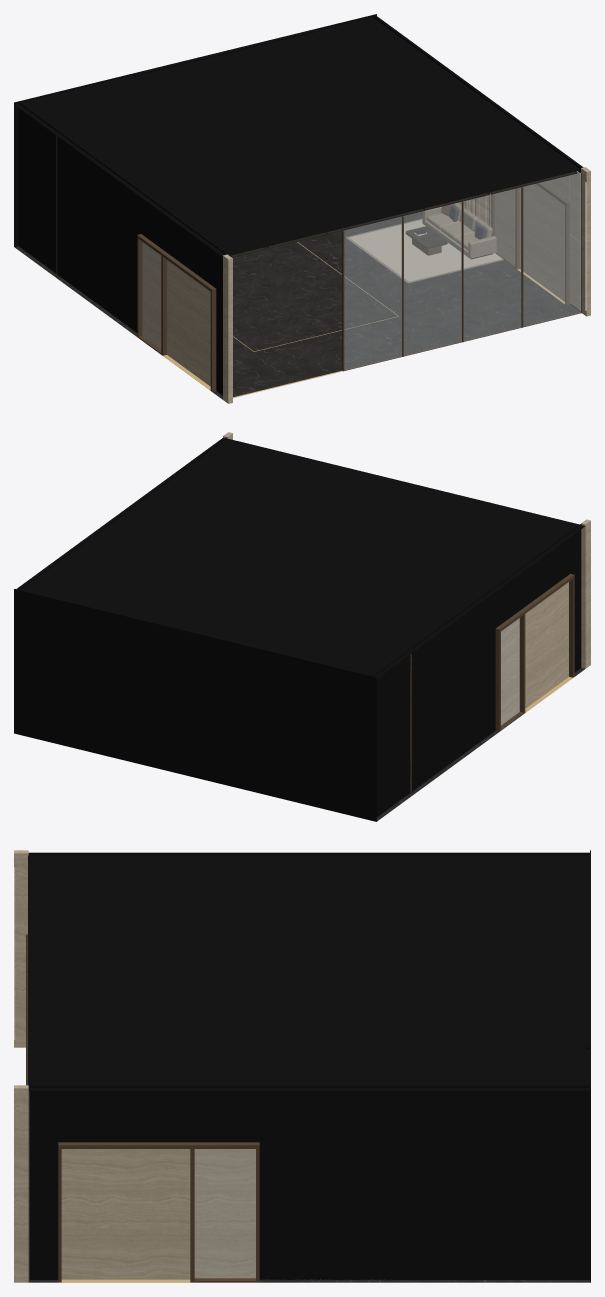
File: room_signature.glb
The picture shows the model from 3 angles, top to bottom: view 1: azimuth 30°, elevation 25°; view 2: azimuth 150°, elevation 25°; view 3: azimuth 270°, elevation 25°; orthographic projection. The views are drawn at different scales.
Visible parts, largest first — view 1: MTG_Reveals, MTG_Glass_Vitrine, MTG_Floor, MTG_PortalFill_L, MTG_PortalFill_R, MTG_Rug, MTG_Walls, MTG_Sofa, MTG_Glass_PortalL, MTG_Pier_-1, MTG_Pier_1, MTG_Ceiling (+5 smaller); view 2: MTG_Reveals, MTG_PortalFill_L, MTG_Glass_PortalL, MTG_Pier_-1, MTG_PortalL_Mull, MTG_Floor, MTG_PortalL_JambA, MTG_PortalL_Head, MTG_PortalL_JambB; view 3: MTG_Reveals, MTG_PortalFill_R, MTG_Glass_PortalR, MTG_Pier_1, MTG_Pier_-1, MTG_PortalR_Head, MTG_Floor, MTG_PortalR_Mull.
Part boxes in pixels (left/top/right/bottom): MTG_Reveals: left=14, top=14, right=583, bottom=395; MTG_Glass_Vitrine: left=344, top=173, right=580, bottom=369; MTG_Floor: left=14, top=211, right=579, bottom=399; MTG_PortalFill_L: left=142, top=242, right=210, bottom=386; MTG_PortalFill_R: left=495, top=184, right=564, bottom=301; MTG_Rug: left=349, top=220, right=502, bottom=281; MTG_Walls: left=458, top=171, right=580, bottom=310; MTG_Sofa: left=422, top=203, right=496, bottom=259; MTG_Glass_PortalL: left=142, top=242, right=160, bottom=348; MTG_Pier_-1: left=223, top=254, right=232, bottom=403; MTG_Pier_1: left=581, top=167, right=590, bottom=316; MTG_Ceiling: left=230, top=171, right=576, bottom=257; MTG_Reveals: left=14, top=437, right=584, bottom=821; MTG_PortalFill_L: left=501, top=582, right=568, bottom=725; MTG_Glass_PortalL: left=501, top=618, right=519, bottom=724; MTG_Pier_-1: left=581, top=519, right=590, bottom=668; MTG_PortalL_Mull: left=519, top=614, right=525, bottom=713; MTG_Floor: left=377, top=668, right=584, bottom=821; MTG_PortalL_JambA: left=495, top=631, right=500, bottom=731; MTG_PortalL_Head: left=495, top=574, right=574, bottom=632; MTG_PortalL_JambB: left=569, top=578, right=574, bottom=677; MTG_Reveals: left=28, top=850, right=590, bottom=1282; MTG_PortalFill_R: left=61, top=1149, right=255, bottom=1279; MTG_Glass_PortalR: left=195, top=1149, right=255, bottom=1277; MTG_Pier_1: left=14, top=1085, right=28, bottom=1282; MTG_Pier_-1: left=14, top=850, right=28, bottom=1047; MTG_PortalR_Head: left=58, top=1142, right=259, bottom=1148; MTG_Floor: left=28, top=1280, right=589, bottom=1282; MTG_PortalR_Mull: left=190, top=1149, right=194, bottom=1282.
Bounding box in the file's own units: 13 × 4.95 × 13.32.
Materials: 32 (11 with a texture image).
